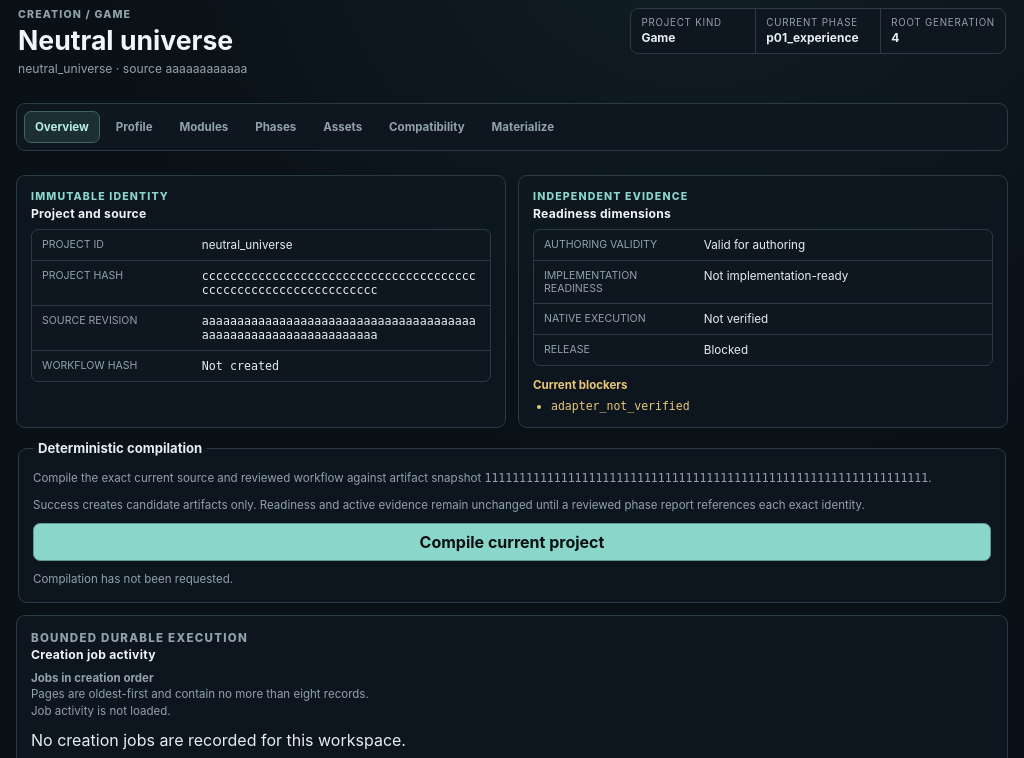
it: CreationWorkspace › suppresses an identical queued compile without polling a job it did not submit
This screenshot has width=1024, height=758.
Click the button "Compile current project".
click(512, 542)  # box [33, 523, 991, 561]
(page scrolled)
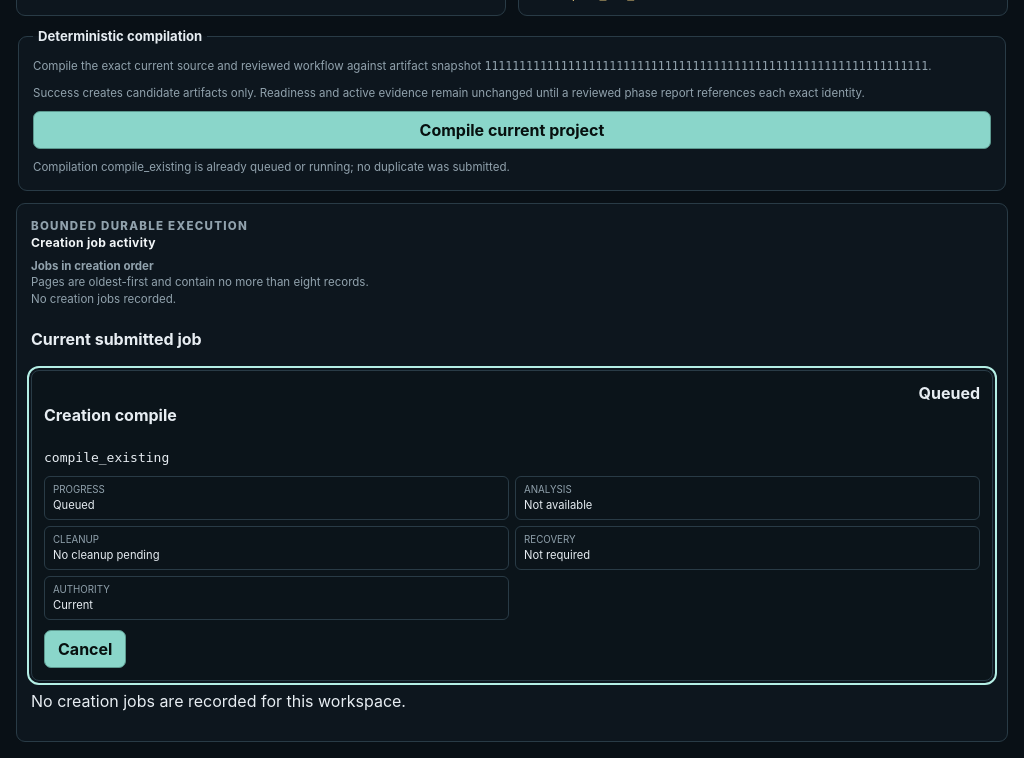
Check: the message named "Compilation status" shows "already queued or running", box [33, 160, 510, 174]
